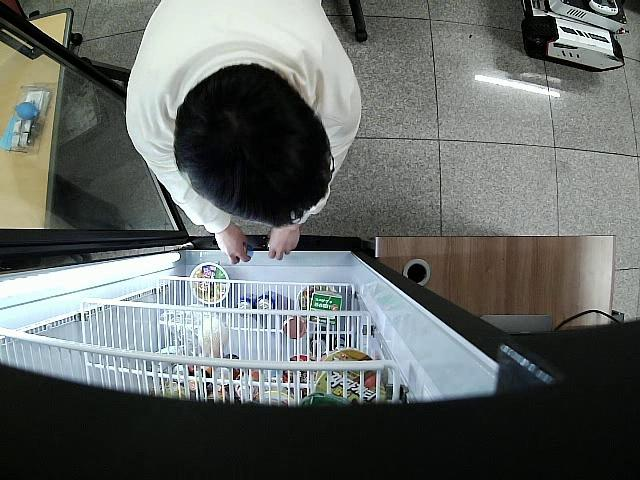00_hand: (213, 224, 251, 264), (270, 224, 299, 260)
